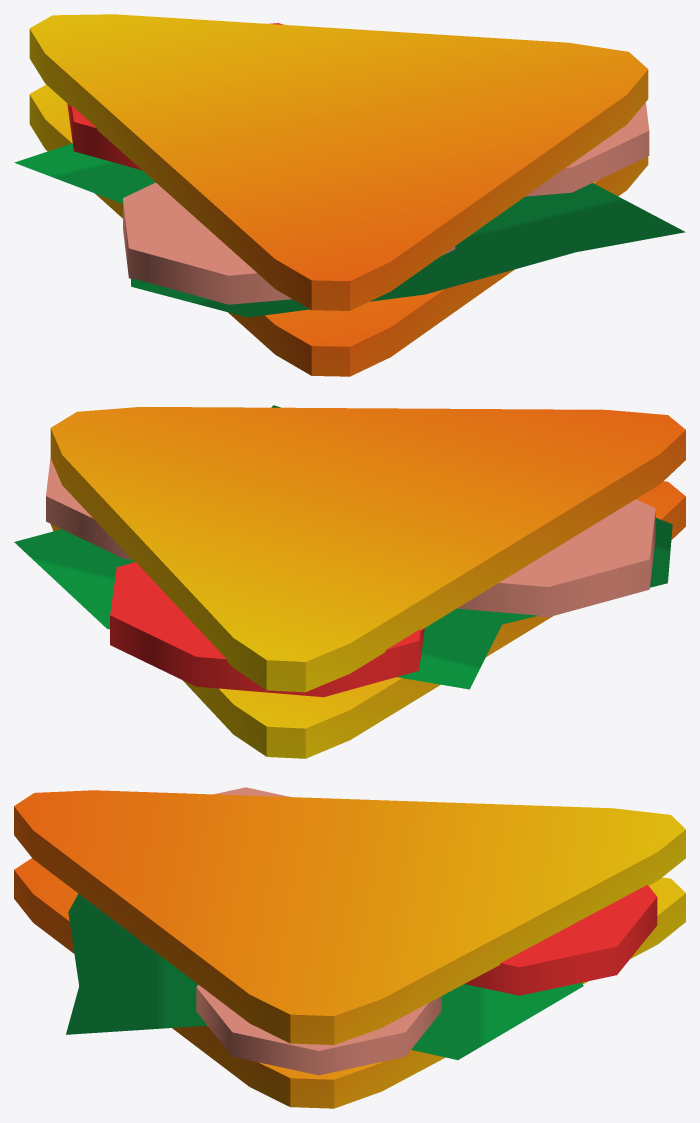
Rendered from Food_Sandwich2.fbx.
3 views of the same model, one above another, from view 1: azimuth 30°, elevation 25°; view 2: azimuth 150°, elevation 25°; view 3: azimuth 270°, elevation 25° (orthographic). The views are drawn at different scales.
Visible parts, largest first — view 1: Food_Sandwich2; view 2: Food_Sandwich2; view 3: Food_Sandwich2.
Part boxes in pixels (x1,y1,x2,y2): Food_Sandwich2: (14,14,685,376); Food_Sandwich2: (14,405,685,758); Food_Sandwich2: (14,787,685,1108).
Bounding box in the file's own units: 11.97 × 1.95 × 12.82.
